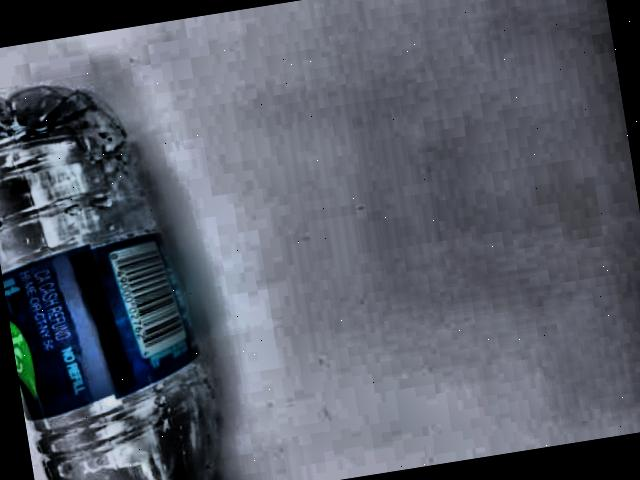Bottles: (0, 55, 250, 480)
